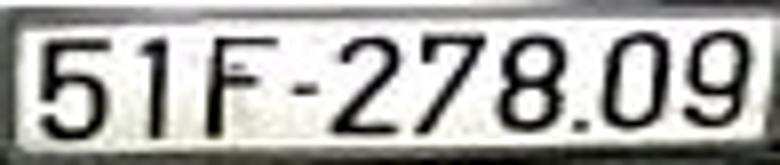-: (285, 78, 319, 97)
.: (574, 115, 594, 138)
0: (597, 31, 667, 131)
1: (139, 37, 172, 142)
2: (330, 35, 404, 144)
5: (36, 35, 111, 141)
7: (417, 32, 488, 138)
8: (499, 32, 566, 135)
9: (684, 30, 753, 130)
F: (204, 36, 287, 138)
